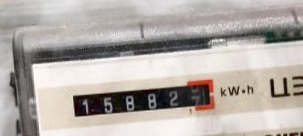1: (79, 95, 90, 114)
2: (166, 87, 179, 106)
5: (101, 95, 113, 112)
7: (189, 93, 200, 105)
8: (122, 92, 135, 110), (145, 90, 157, 109)
screen: (63, 74, 220, 125)
